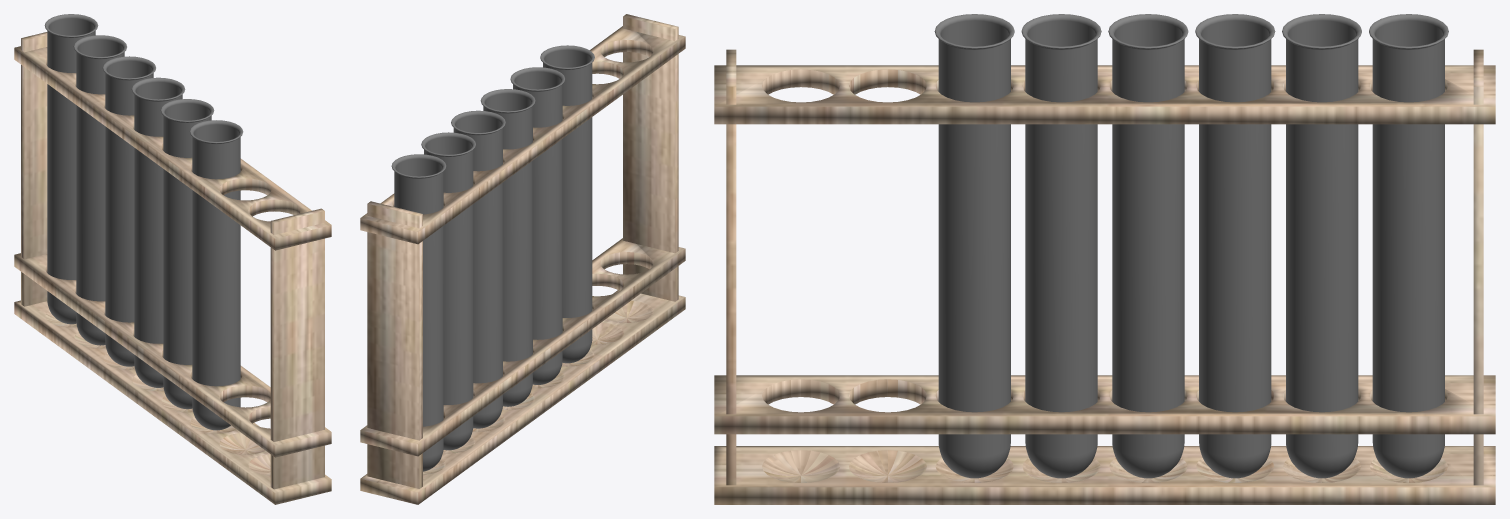
The picture shows the model from 3 angles, left to right: view 1: azimuth 30°, elevation 25°; view 2: azimuth 150°, elevation 25°; view 3: azimuth 270°, elevation 25°; orthographic projection. The views are drawn at different scales.
Visible parts, largest first — view 1: root, object 2, object 4, object 5, object 6, object 7, object 3; view 2: root, object 2, object 6, object 3, object 4, object 5, object 7; view 3: root, object 2, object 5, object 6, object 7, object 3, object 4.
Part boxes in pixels (left/top/right/bottom): root: left=14, top=32, right=331, bottom=504; object 2: left=190, top=120, right=243, bottom=430; object 4: left=131, top=77, right=185, bottom=387; object 5: left=102, top=56, right=155, bottom=366; object 6: left=73, top=35, right=126, bottom=345; object 7: left=44, top=14, right=98, bottom=324; object 3: left=160, top=99, right=214, bottom=409; root: left=360, top=14, right=685, bottom=504; object 2: left=540, top=45, right=594, bottom=363; object 6: left=421, top=132, right=475, bottom=450; object 3: left=510, top=67, right=565, bottom=384; object 4: left=480, top=89, right=535, bottom=406; object 5: left=451, top=110, right=505, bottom=428; object 7: left=391, top=154, right=446, bottom=471; root: left=714, top=49, right=1495, bottom=504; object 2: left=934, top=14, right=1014, bottom=478; object 5: left=1195, top=14, right=1275, bottom=478; object 6: left=1282, top=14, right=1361, bottom=478; object 7: left=1369, top=14, right=1448, bottom=478; object 3: left=1021, top=14, right=1101, bottom=478; object 4: left=1108, top=14, right=1188, bottom=478.
Bounding box in the file's own units: 0.04 × 0.205 × 0.32.
2 materials, 1 textured.
